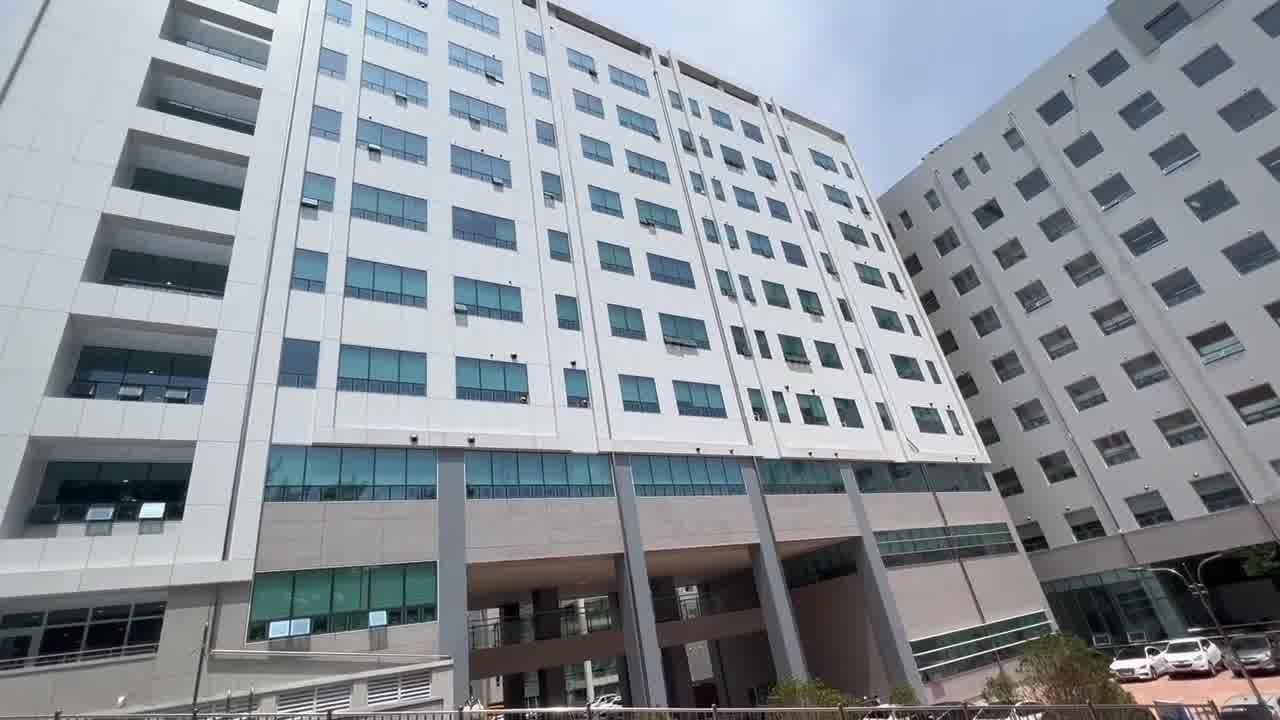building: (13, 8, 1280, 712)
